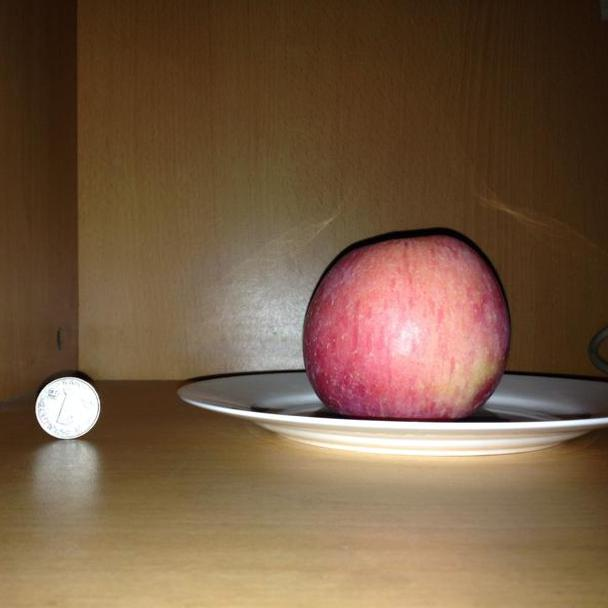apple: (301, 234, 511, 423)
